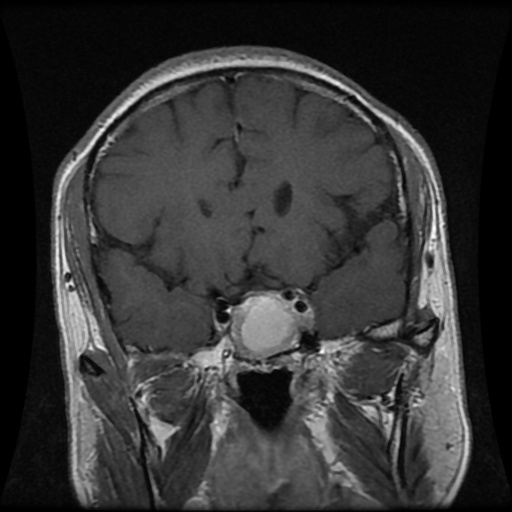pituitary: (232, 293, 316, 359)
